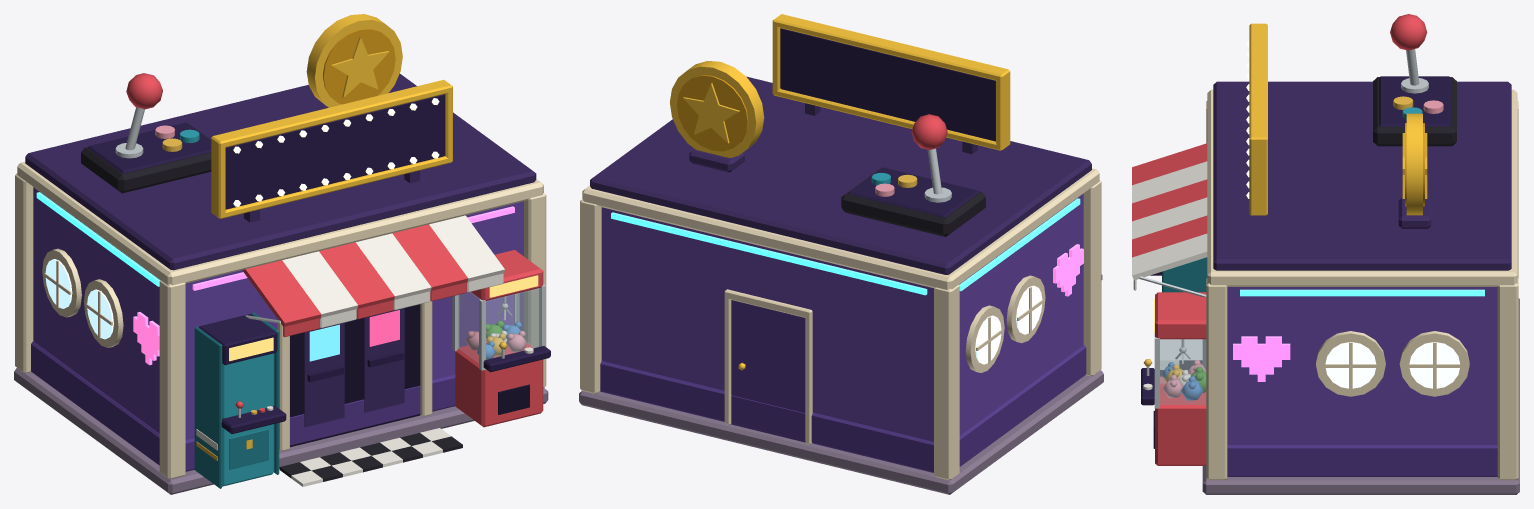
The model's file is arcade.glb.
3 renders of one model, left to right at view 1: azimuth 30°, elevation 25°; view 2: azimuth 150°, elevation 25°; view 3: azimuth 270°, elevation 25°, orthographic. The views are drawn at different scales.
Visible parts, largest first — view 1: Arcade_Body; view 2: Arcade_Body; view 3: Arcade_Body.
Boxes of the visible parts, bbox=[...] form: Arcade_Body: bbox=[14, 14, 550, 494]; Arcade_Body: bbox=[579, 14, 1103, 494]; Arcade_Body: bbox=[1132, 14, 1519, 494].
Bounding box in the file's own units: 3.8 × 3.16 × 3.33.
